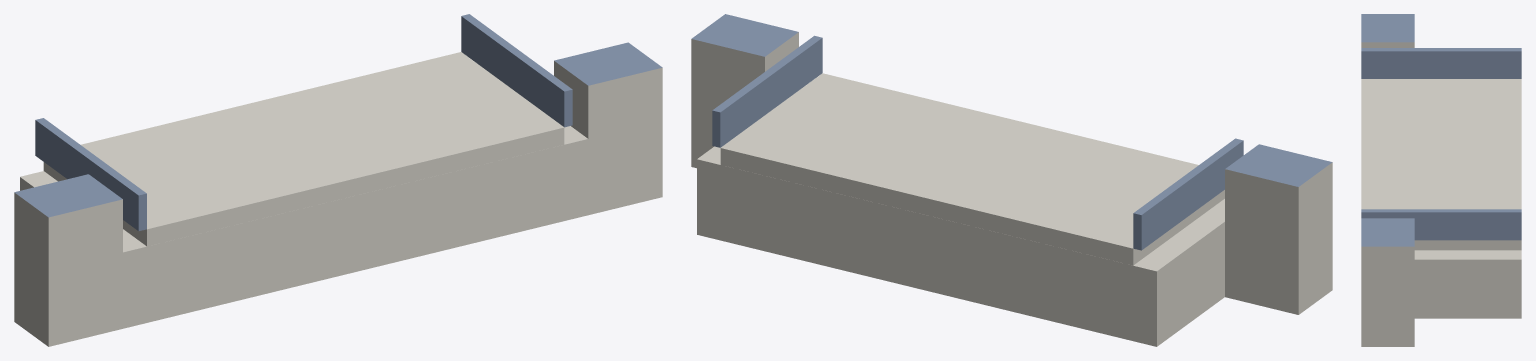
Rendered from SM_Bridge_Abutment.fbx.
3 renders of one model, left to right at view 1: azimuth 30°, elevation 25°; view 2: azimuth 150°, elevation 25°; view 3: azimuth 270°, elevation 25°, orthographic. The views are drawn at different scales.
Visible parts, largest first — view 1: SM_Bridge_Abutment; view 2: SM_Bridge_Abutment; view 3: SM_Bridge_Abutment.
Boxes of the visible parts, bbox=[...] form: SM_Bridge_Abutment: bbox=[14, 14, 662, 346]; SM_Bridge_Abutment: bbox=[691, 14, 1332, 346]; SM_Bridge_Abutment: bbox=[1361, 14, 1521, 346].
Bounding box in the file's own units: 20.6 × 4.15 × 6.
